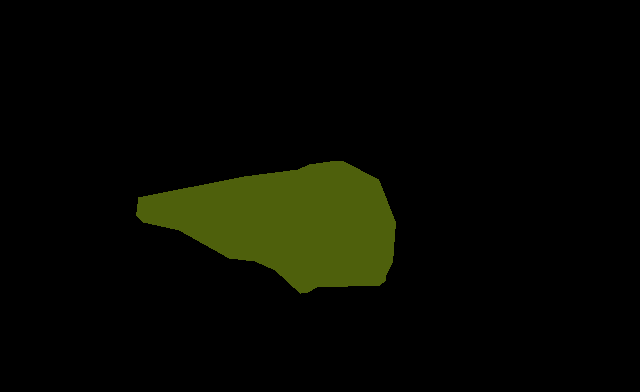Train: (136, 161, 396, 294)
